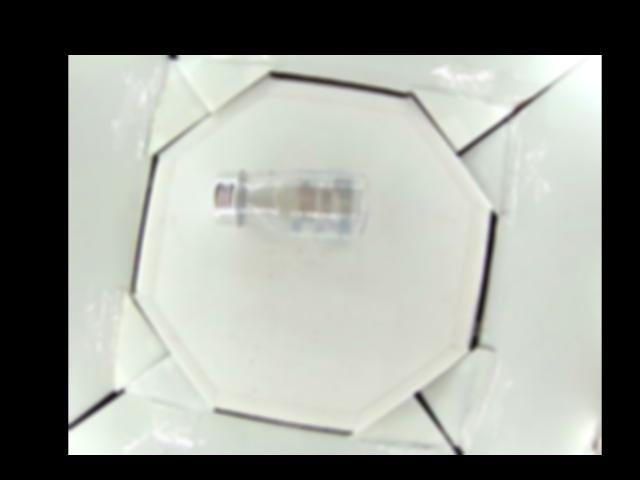Bottle: (211, 170, 371, 241)
